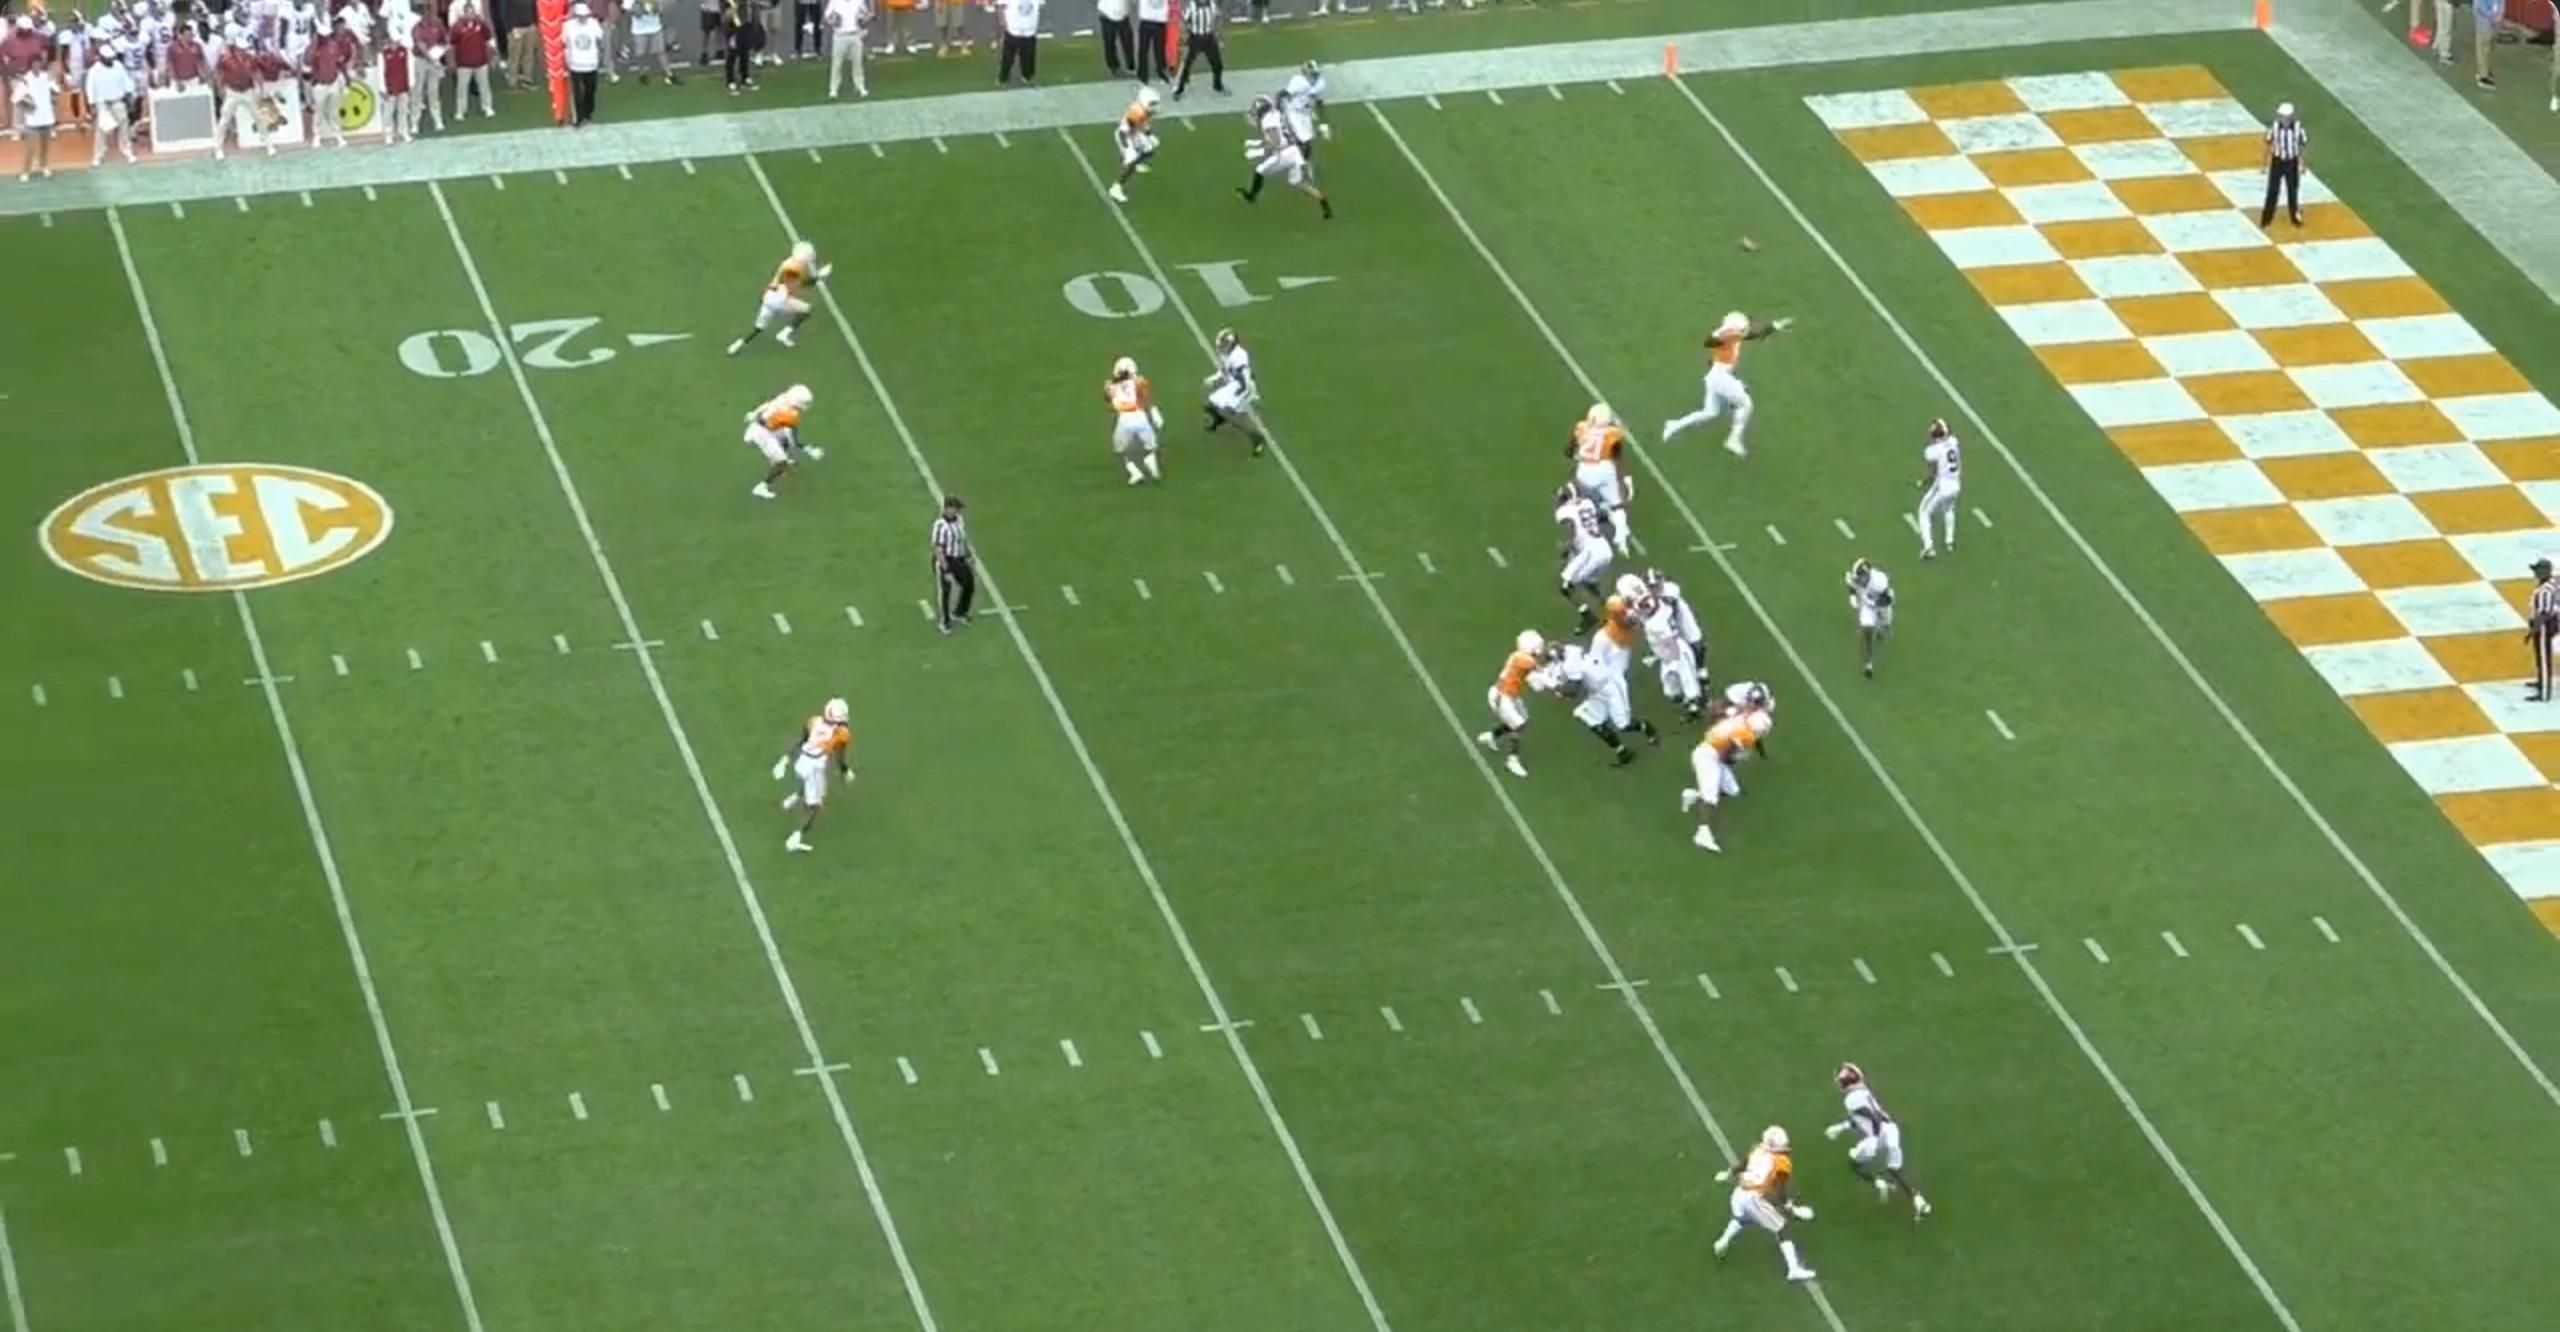player: (1712, 1121, 1832, 1288), (1813, 1059, 1927, 1228), (1659, 306, 1784, 459), (1536, 639, 1657, 776), (1465, 631, 1565, 784), (1684, 695, 1778, 857), (776, 689, 866, 854), (1233, 94, 1338, 230), (717, 233, 821, 357), (1564, 404, 1644, 563), (1190, 329, 1275, 470), (1552, 486, 1635, 629), (739, 385, 823, 510), (1092, 350, 1167, 490), (1716, 680, 1792, 807), (1902, 416, 1966, 566), (1826, 552, 1896, 688), (1634, 596, 1707, 721), (1639, 565, 1712, 687), (1100, 81, 1167, 211), (1271, 58, 1345, 164), (1578, 571, 1653, 675)
ref: (932, 497, 995, 647), (2258, 98, 2318, 235), (1162, 1, 1225, 106), (2529, 561, 2560, 713)
